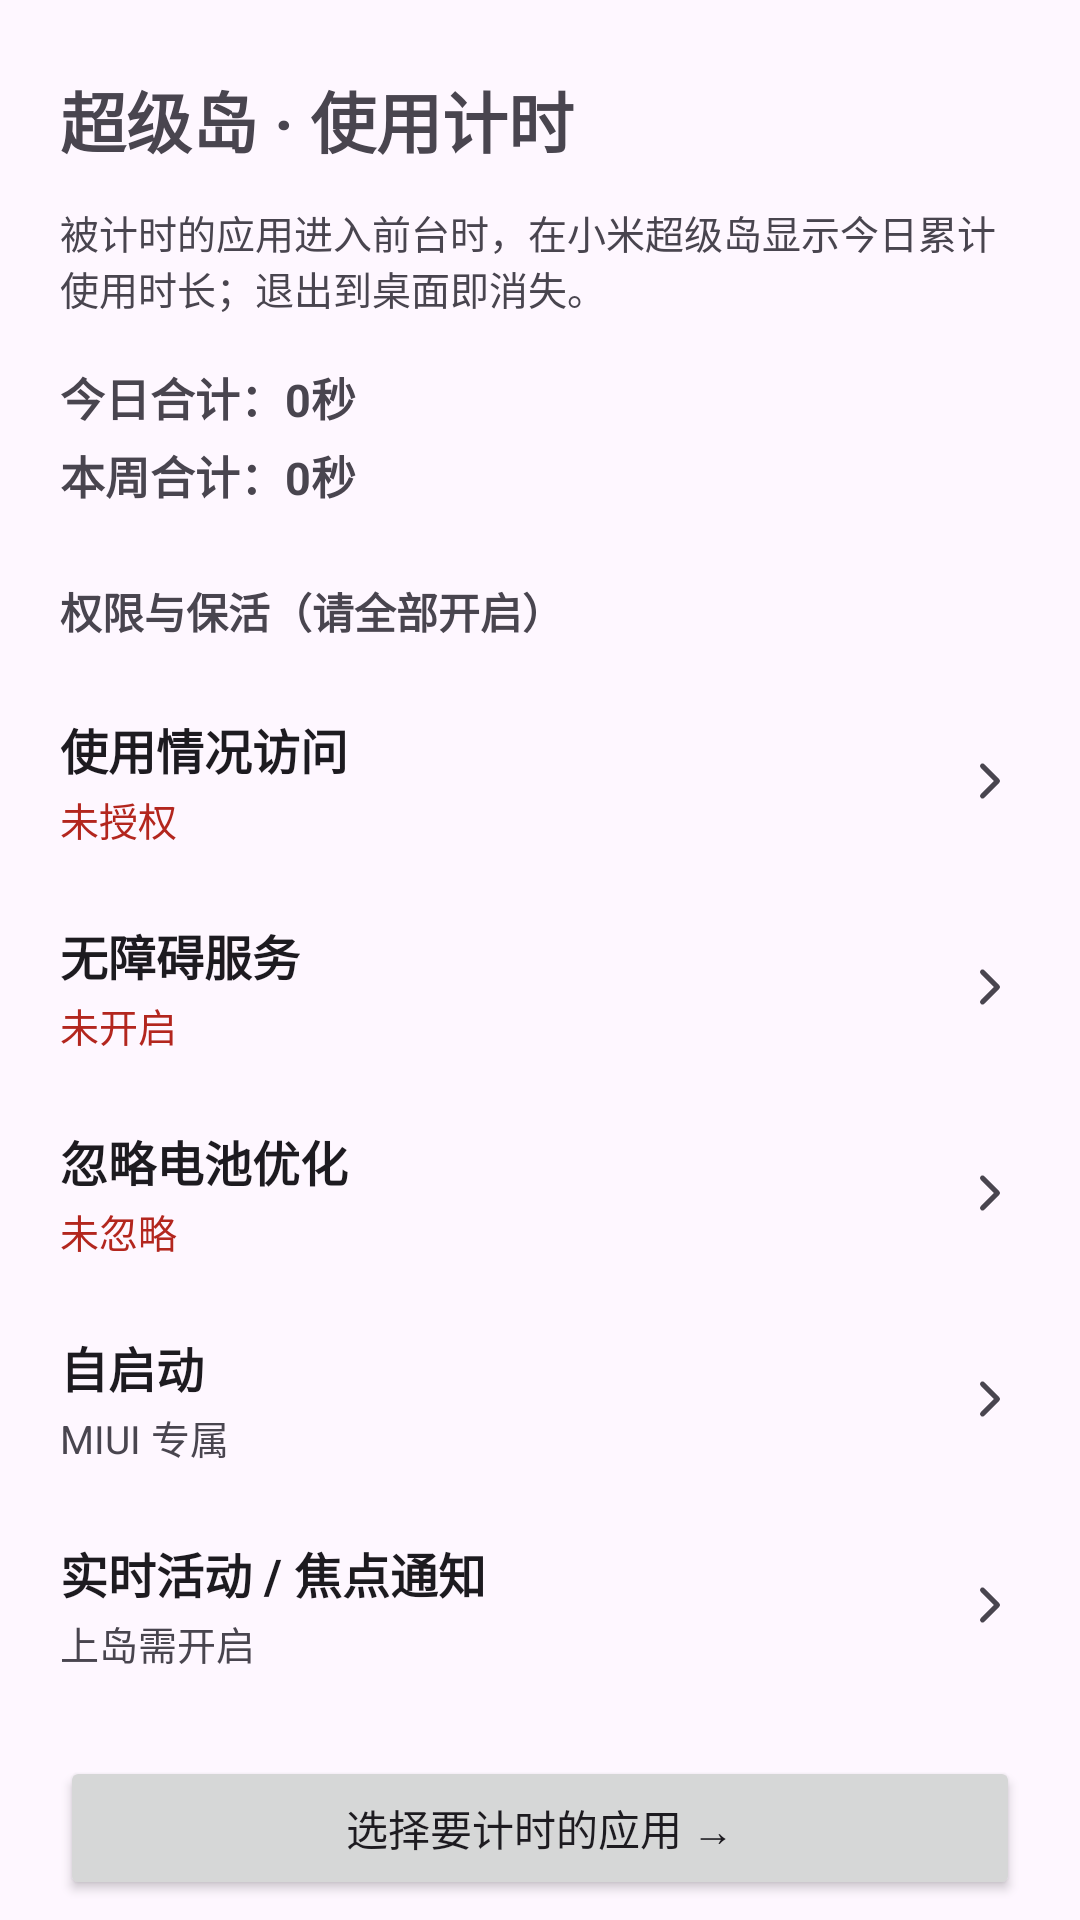

Locate icon controls on the screen. Image size 1080*1920, boxes as (x1, y1, x2, y2).
chevron right: (980, 763, 1000, 799), (980, 969, 1000, 1005), (980, 1175, 1000, 1211), (980, 1381, 1000, 1417), (980, 1587, 1000, 1623)
